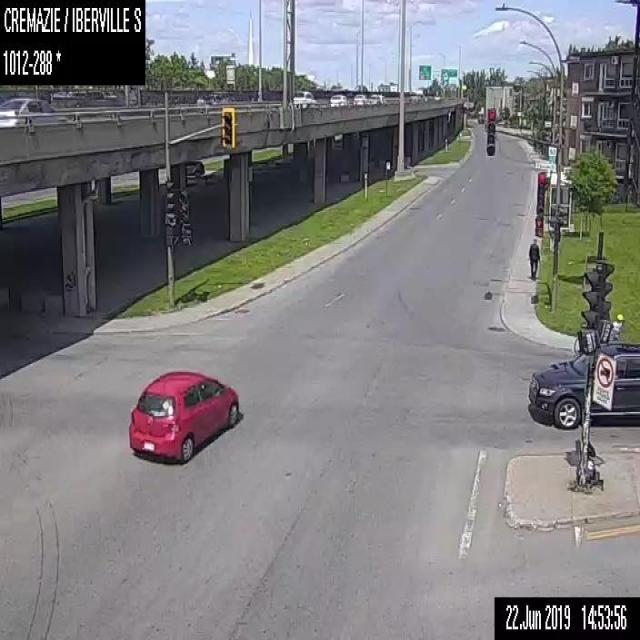pedestrian: (527, 235, 539, 277)
vehicle: (127, 370, 243, 466), (526, 339, 639, 429), (0, 93, 66, 125), (52, 88, 117, 106), (196, 90, 234, 106), (292, 89, 317, 104), (185, 160, 205, 176), (329, 92, 349, 105), (368, 93, 384, 106), (352, 93, 367, 105), (406, 94, 423, 104), (433, 94, 440, 102)
